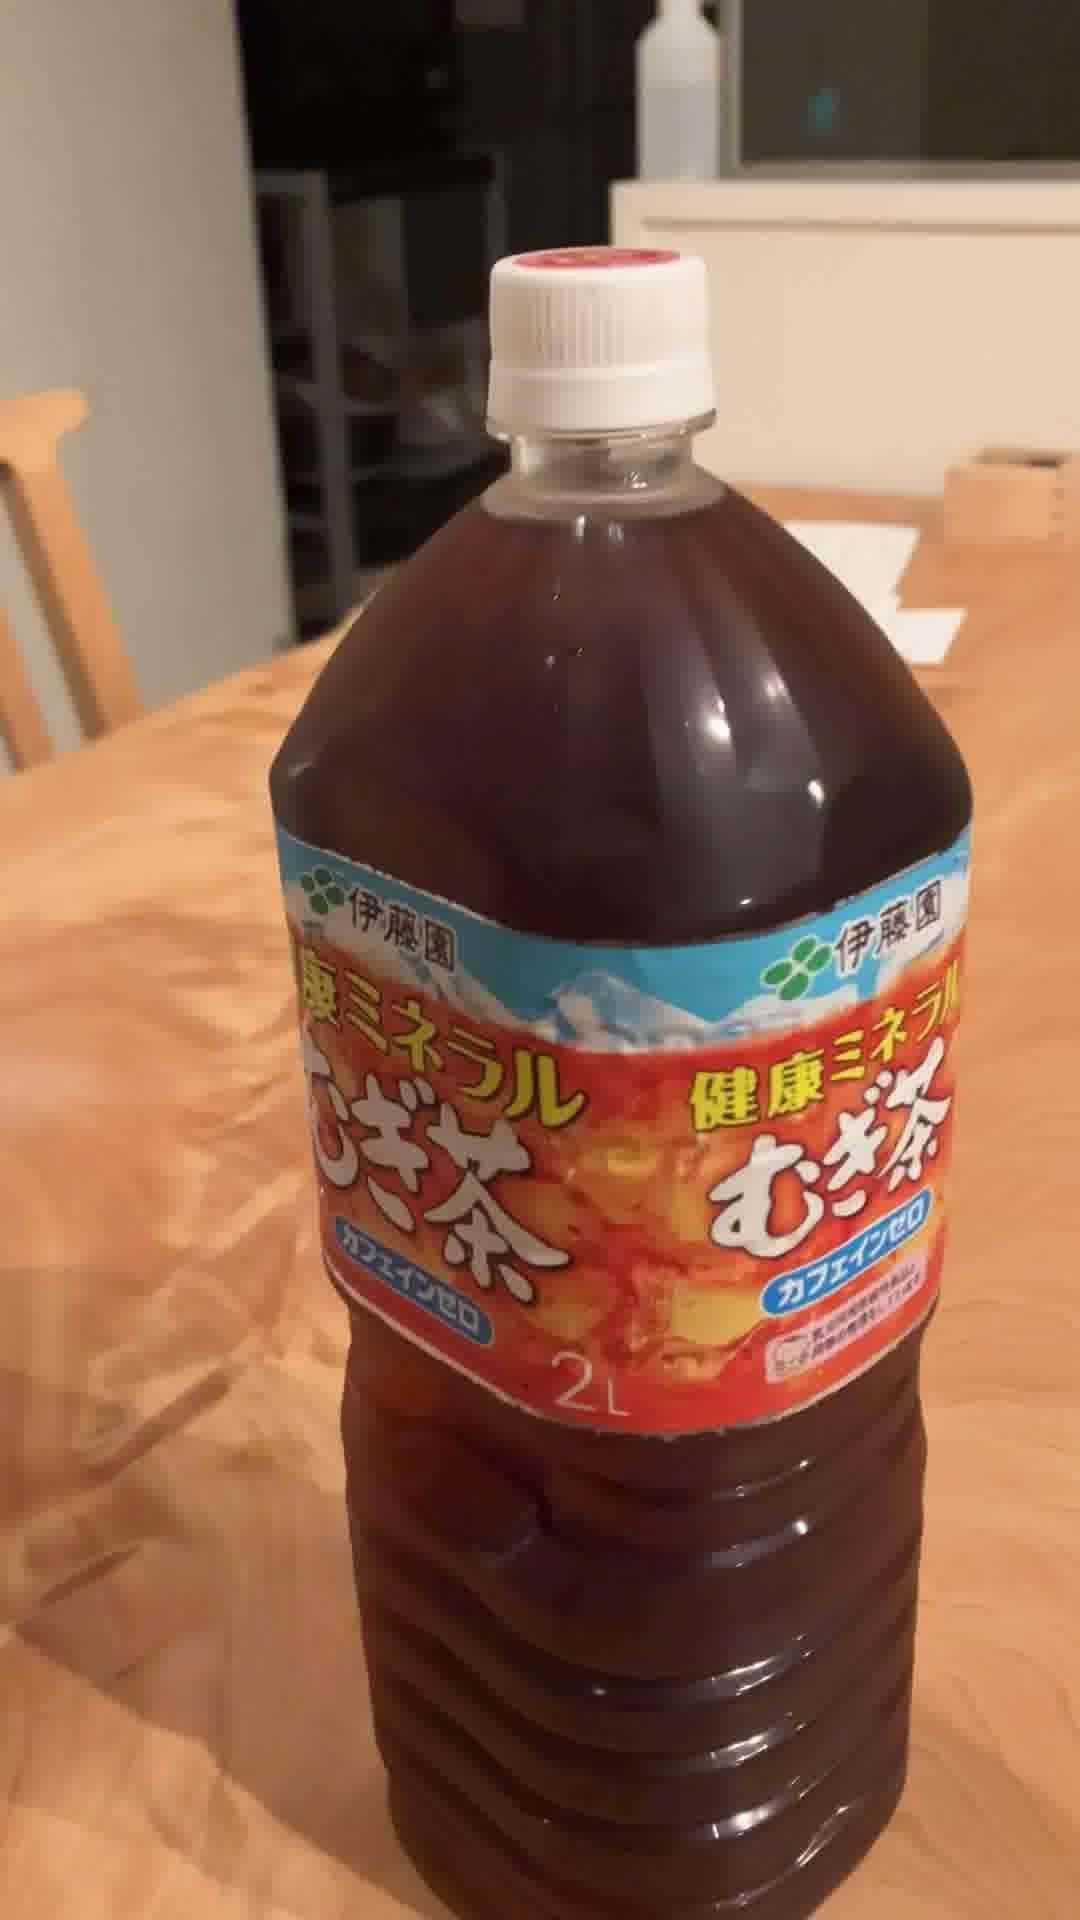BIODEGRADABLE: (262, 236, 978, 1920)
